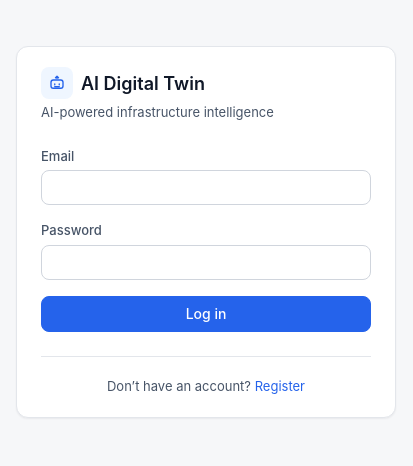
LoginPage › shows the backend error message and stays on the page when login fails
Type "a@b.com" into the field labelled "Email" at (206, 188), box [41,170,371,205]
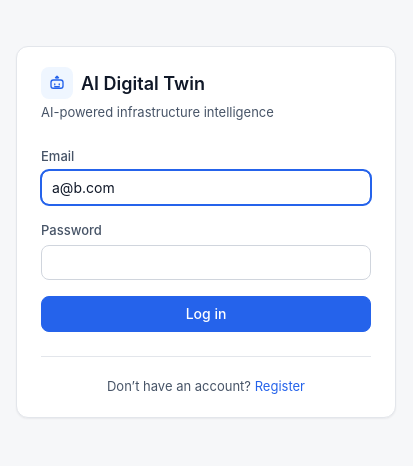
Type "wrong-password" into the password field labelled "Password" at (206, 262), box [41,245,371,280]
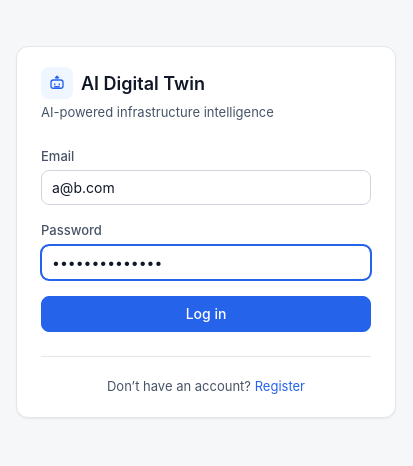
Click the button "Log in" at (206, 314), box [41,296,371,332]
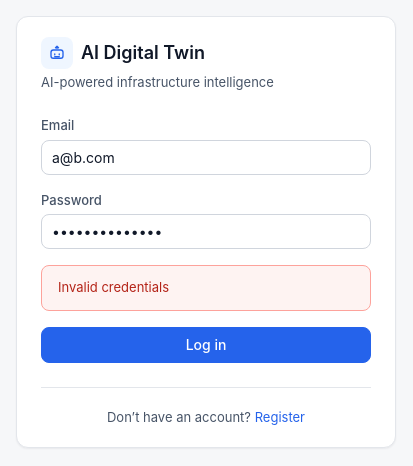
expect the message reads "Invalid credentials": met, box [58,279,169,295]
